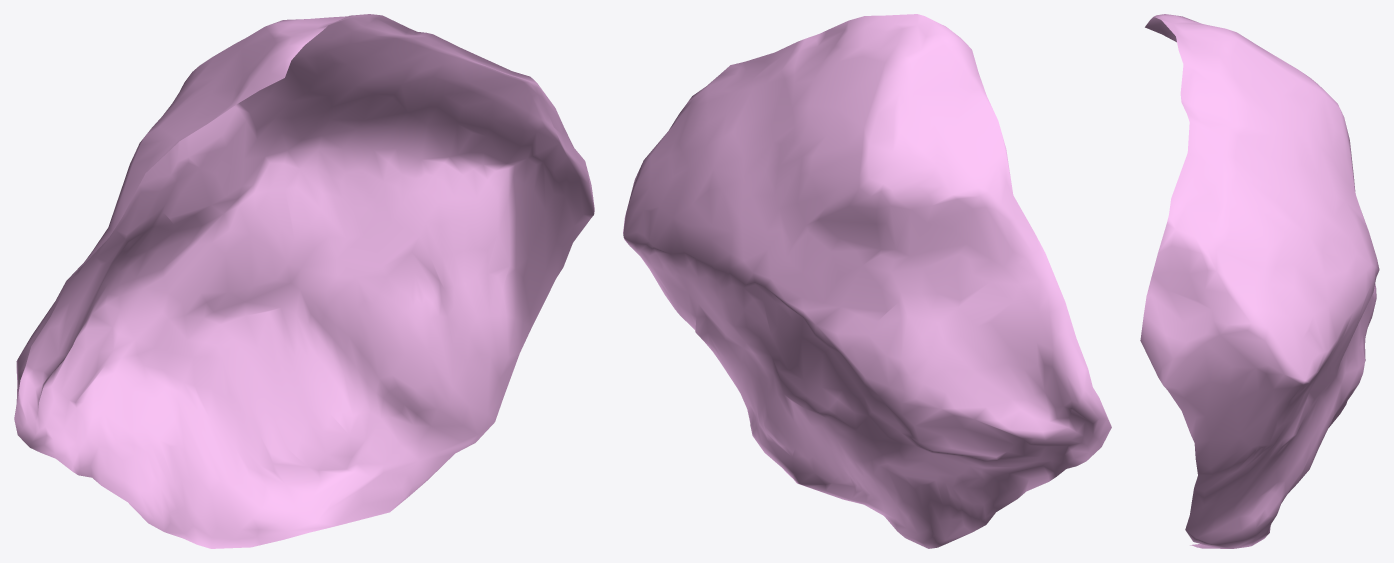
Rendered from Rock1.fbx.
The picture shows the model from 3 angles, left to right: view 1: azimuth 30°, elevation 25°; view 2: azimuth 150°, elevation 25°; view 3: azimuth 270°, elevation 25°; orthographic projection. The views are drawn at different scales.
Visible parts, largest first — view 1: Rock35; view 2: Rock35; view 3: Rock35.
Part boxes in pixels (left/top/right/bottom): Rock35: left=14, top=14, right=594, bottom=548; Rock35: left=623, top=14, right=1111, bottom=548; Rock35: left=1140, top=14, right=1379, bottom=548.
Bounding box in the file's own units: 614 × 603 × 251.
